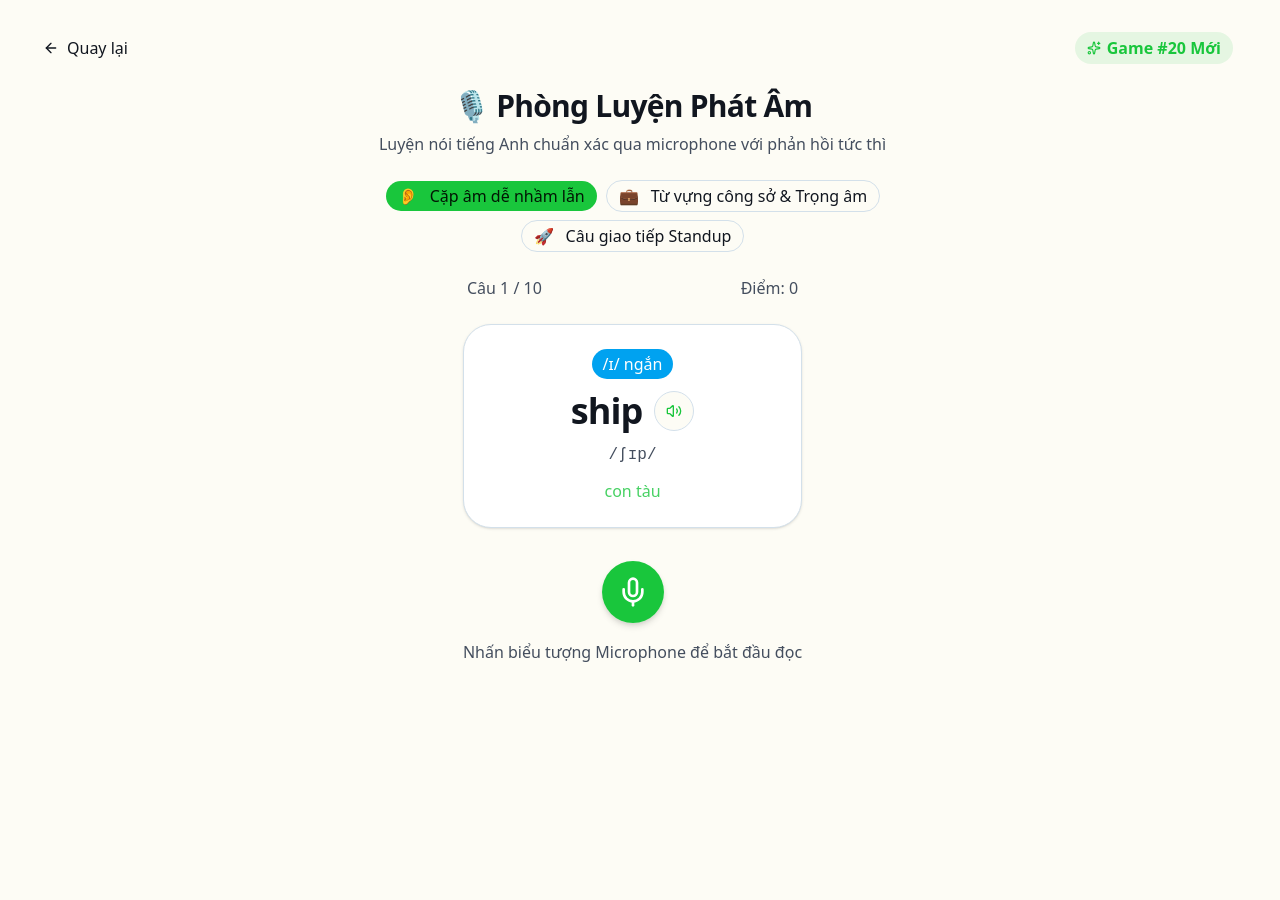
Test case: PronunciationPage › handles speech recognition recording, evaluation, and moving to next question
This screenshot has width=1280, height=900.
Note: Click microphone button to start listening
What coordinates should you click on to do the following:
click the button with test id "mic-toggle-button"
I would click on:
 (632, 592)
Its box is [600,560,664,624].
(page scrolled)
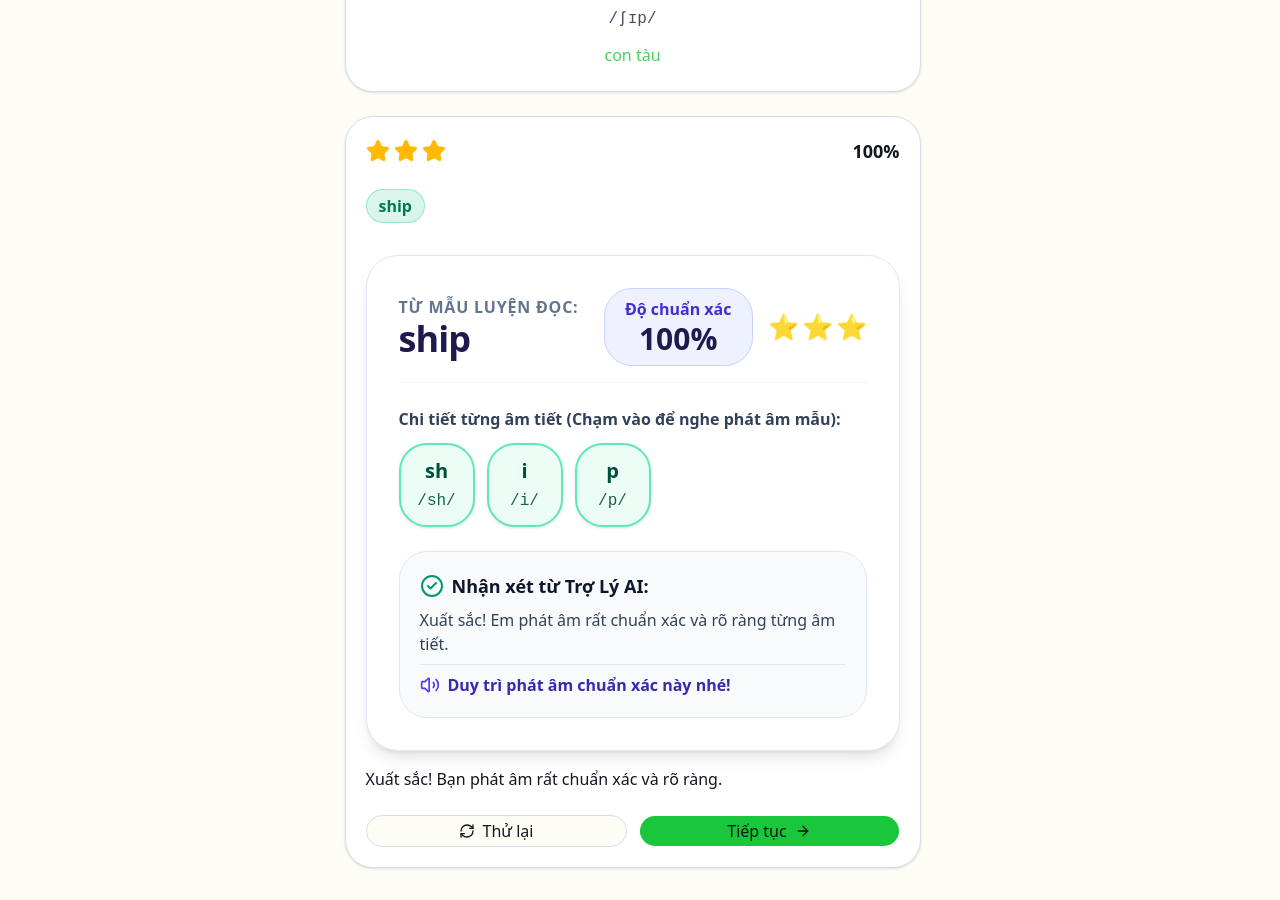
Expected: the 1st text "100%" is shown, [852,137,900,165]
Expected: the button "Thử lại" is shown, [366,815,626,847]
Expected: the button "Tiếp tục" is shown
Note: Click Tiếp tục to advance to next question (sheep)
What coordinates should you click on to do the following:
click the button "Tiếp tục"
I would click on:
 (769, 831)
Its box is [638,815,900,847].
(page scrolled)
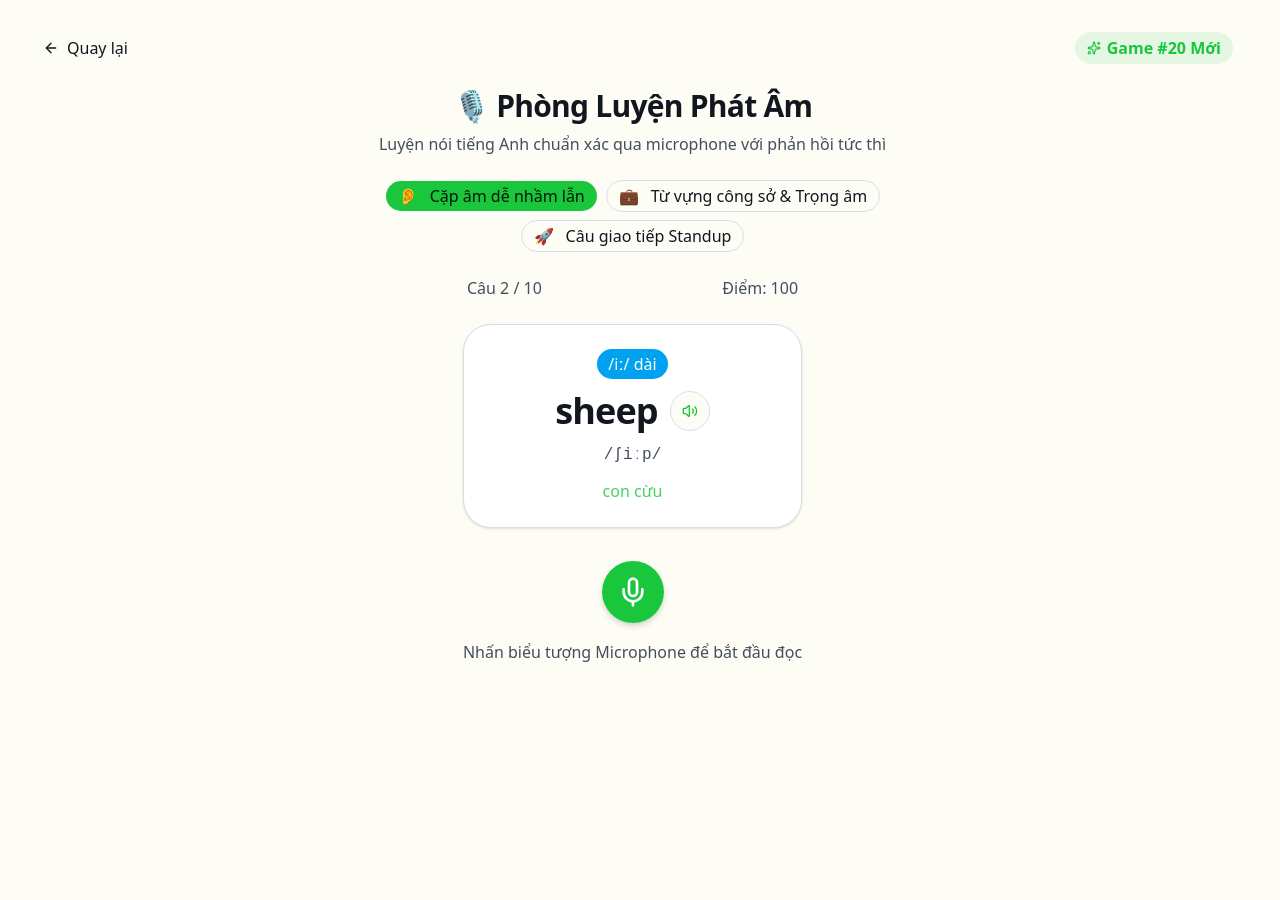
Expected: the text "Câu 2 / 10" is shown, [467,276,542,300]
Expected: the heading "sheep" is shown, [555,391,658,431]
Expected: the text "Điểm: 100" is shown, [722,276,798,300]
